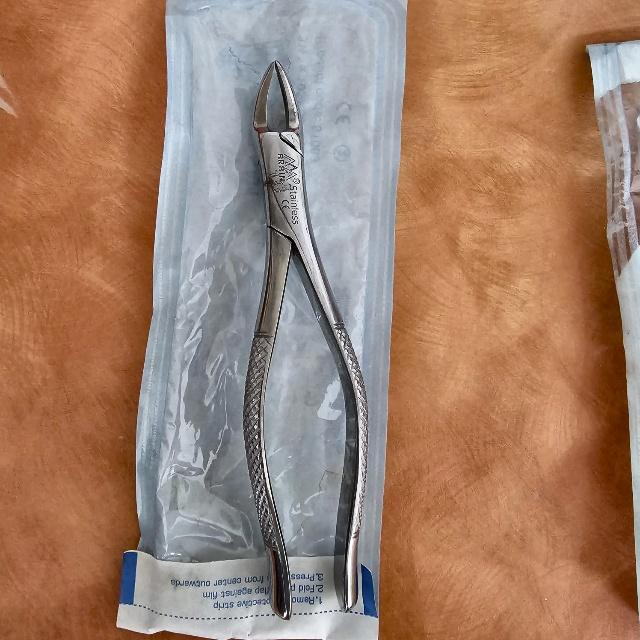forceps: (242, 62, 369, 620)
